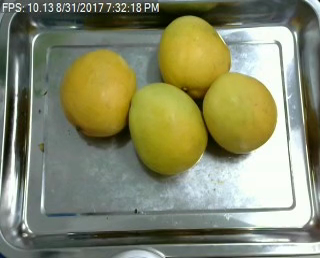Mango: (128, 83, 208, 174), (62, 48, 135, 137), (158, 15, 231, 99), (201, 73, 276, 152)
